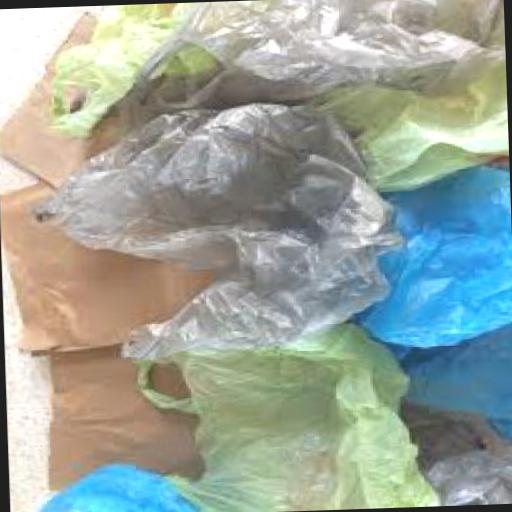paper: (0, 177, 212, 361), (0, 8, 126, 193), (40, 342, 195, 492)
plastic: (26, 100, 404, 366), (130, 321, 434, 512), (116, 0, 505, 133), (288, 33, 507, 195), (331, 167, 512, 350), (369, 327, 512, 446), (395, 408, 512, 506), (29, 460, 191, 512)
